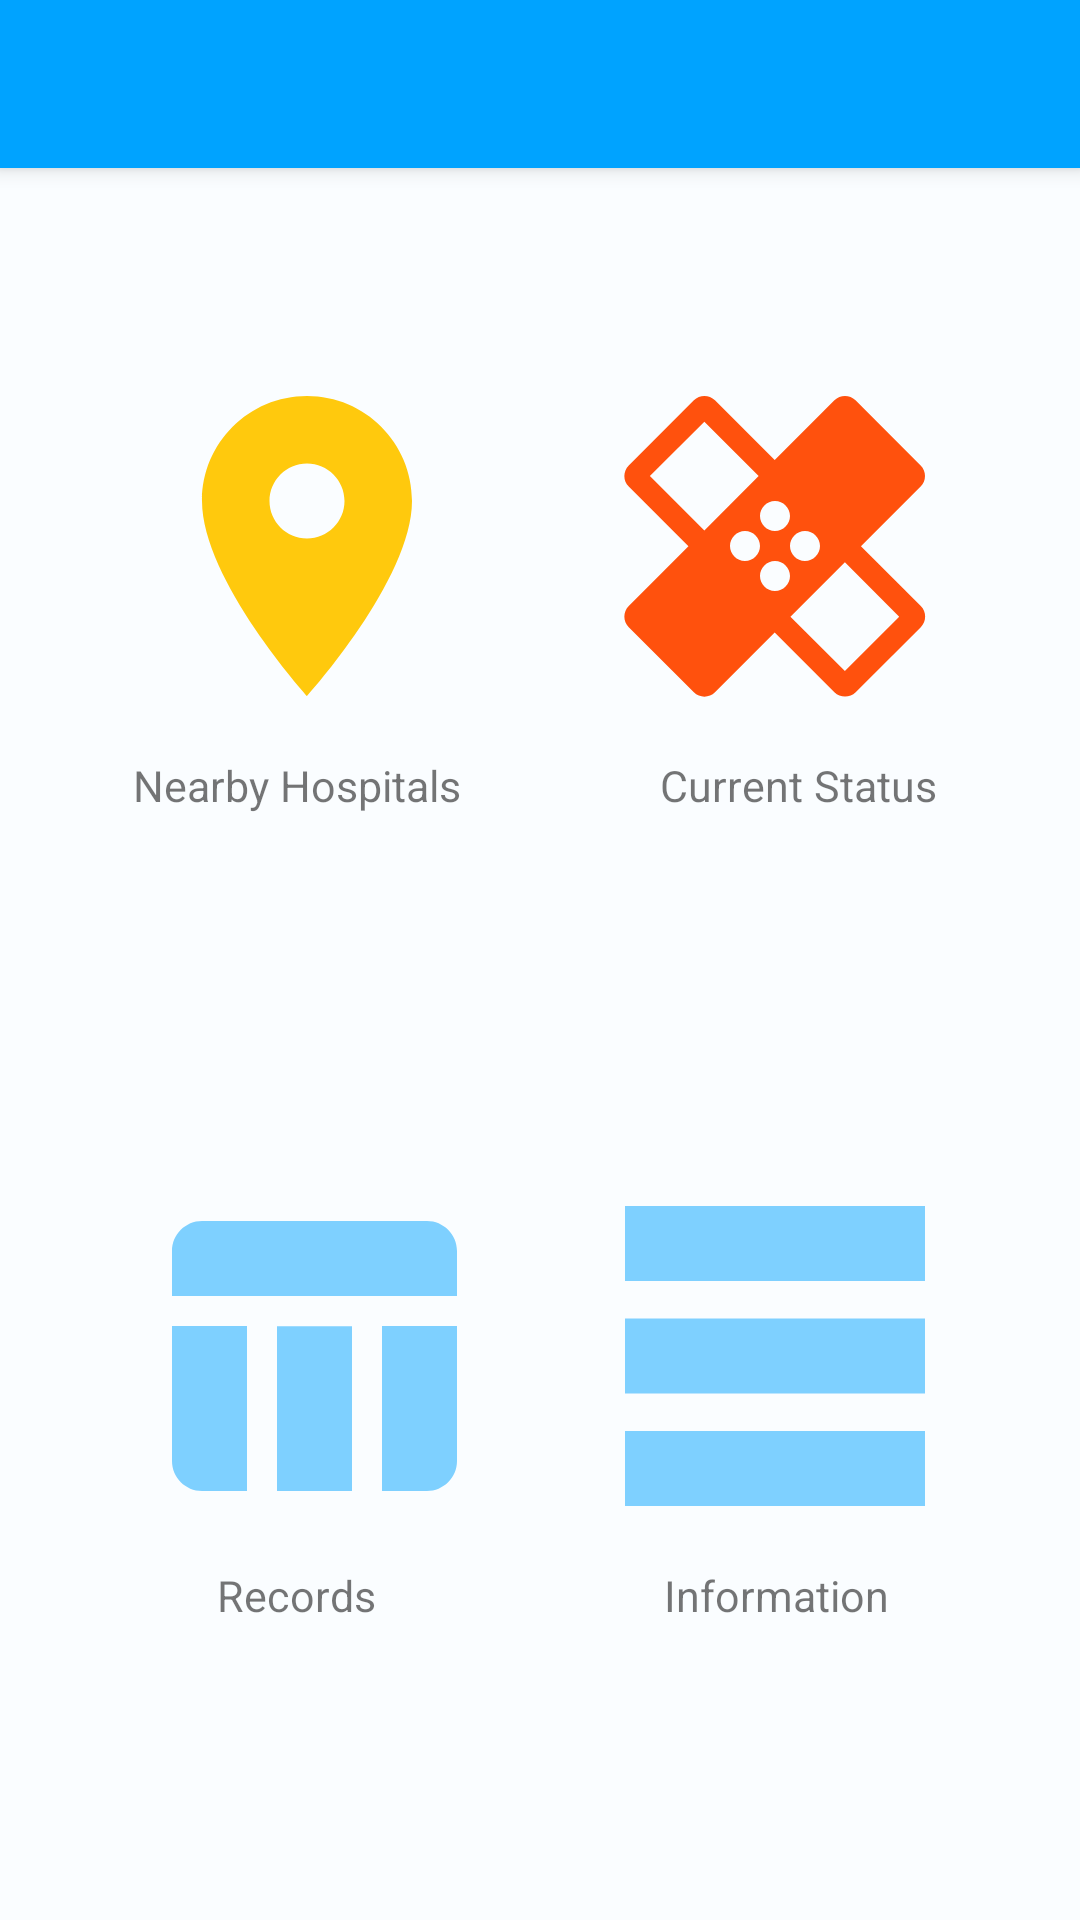

Where icons sit on this 1080 x 1920 app screen, as (x1, y1, x2, y2):
healing: (624, 396, 926, 697)
place: (202, 396, 412, 696)
table chart: (172, 1221, 457, 1491)
table rows: (625, 1206, 925, 1506)
